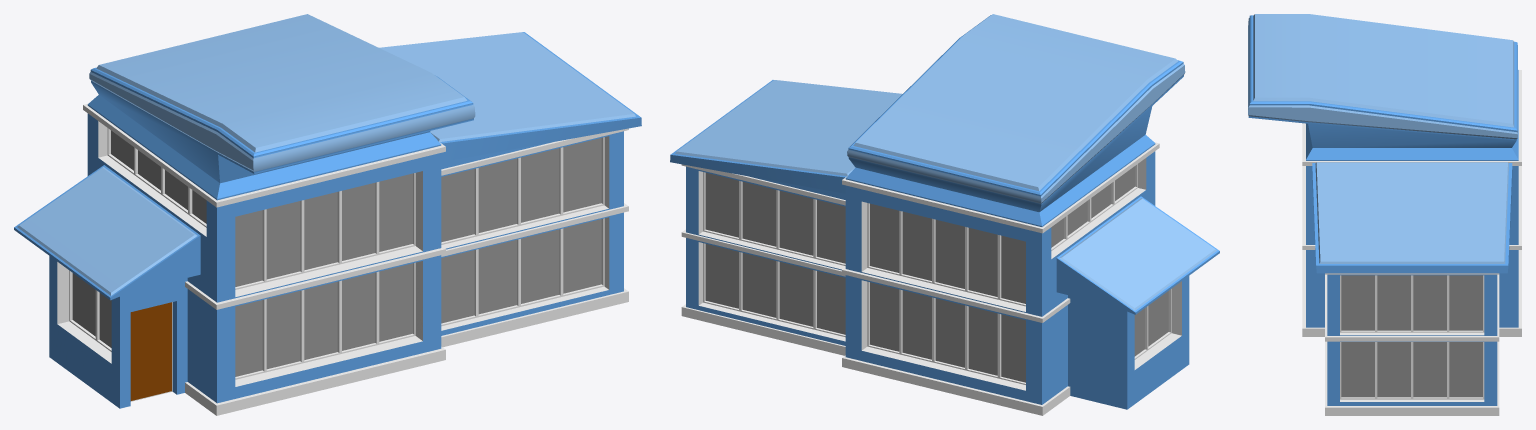
The model's file is SM_House_09_03.FBX.
The picture shows the model from 3 angles, left to right: view 1: azimuth 30°, elevation 25°; view 2: azimuth 150°, elevation 25°; view 3: azimuth 270°, elevation 25°; orthographic projection. The views are drawn at different scales.
Parts seen in each view (by area): view 1: SM_House_09_03; view 2: SM_House_09_03; view 3: SM_House_09_03.
Part boxes in pixels (left/top/right/bottom): SM_House_09_03: left=14, top=14, right=641, bottom=415; SM_House_09_03: left=670, top=14, right=1219, bottom=415; SM_House_09_03: left=1248, top=14, right=1521, bottom=415.
Size of the model in its own units: 13.96 by 7.33 by 7.72.
Materials: 1 (1 with a texture image).
